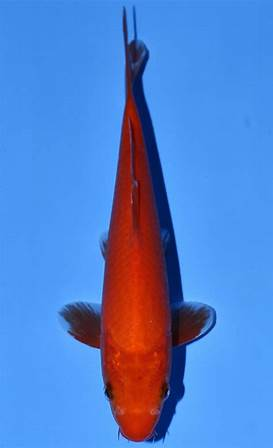red: (59, 5, 214, 441)
